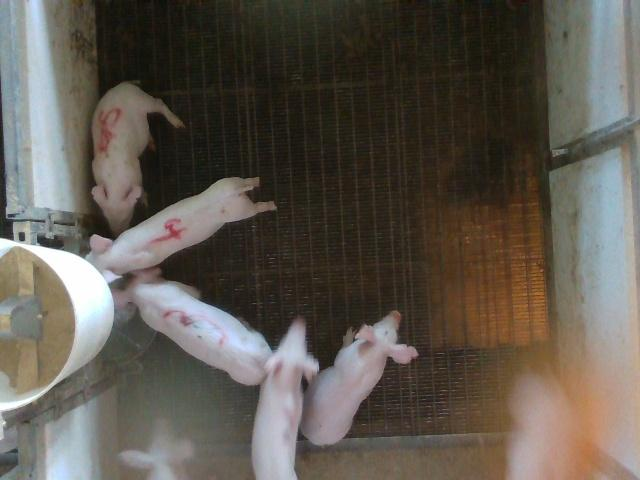pig-1: (506, 372, 570, 478)
pig-2: (251, 318, 319, 479)
pig-3: (112, 266, 279, 384)
pig-4: (86, 178, 276, 282)
pig-5: (92, 82, 184, 236)
